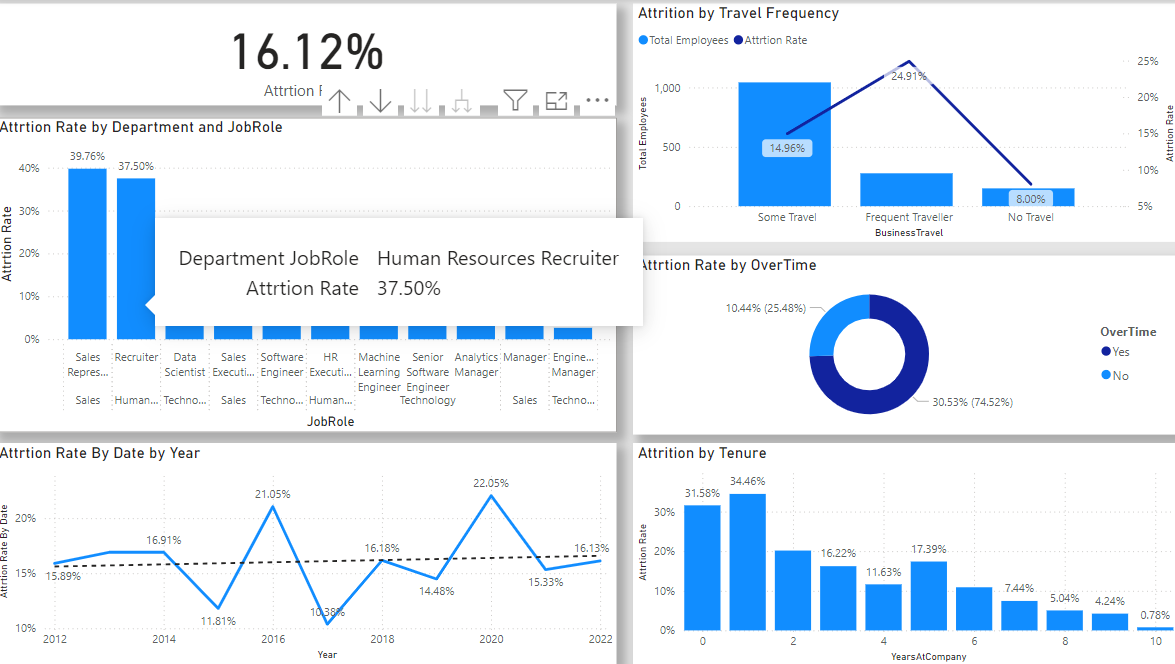

What the dashboard file says about the page in this screenshot:
{"tool":"powerbi","page":{"name":"Attrition","canvas":[1280,720],"ordinal":3},"visuals":[{"type":"card","fields":{"Values":["-Measures.Attrtion Rate"]},"box":[0,5,672,110],"z":0},{"type":"columnChart","fields":{"Category":["DimEmployee.Department","DimEmployee.JobRole"],"Y":["-Measures.Attrtion Rate"]},"box":[0,127.9,672,340],"z":1000},{"type":"lineChart","fields":{"Category":["DimDate.Year"],"Y":["-Measures.Attrtion Rate By Date"]},"box":[0,479.7,672.1,238.8],"z":2000},{"type":"donutChart","fields":{"Y":["-Measures.Attrtion Rate"],"Category":["DimEmployee.OverTime"]},"box":[690,276.1,588.4,193.5],"z":4000},{"type":"columnChart","title":"Attrition by Tenure","fields":{"Category":["DimEmployee.YearsAtCompany"],"Y":["-Measures.Attrtion Rate"]},"box":[690,479.7,588,241],"z":5000},{"type":"lineStackedColumnComboChart","title":"Attrition by Travel Frequency","fields":{"Category":["DimEmployee.BusinessTravel"],"Y2":["-Measures.Attrtion Rate"],"Y":["-Measures.Total Employees"]},"box":[690,5,589.4,257.5],"z":5001}]}

Visuals, with their boxes on the page's 1280x720 design canvas (x1, y1, x2, y2). These are canvas units, not pixel positions in the 1175x664 screenshot, which may show the page scaled, cropped or inside an application window:
card - -Measures.Attrtion Rate: (x1=0, y1=5, x2=672, y2=115)
columnChart - DimEmployee.Department x DimEmployee.JobRole: (x1=0, y1=128, x2=672, y2=468)
lineChart - DimDate.Year x -Measures.Attrtion Rate By Date: (x1=0, y1=480, x2=672, y2=718)
donutChart - -Measures.Attrtion Rate x DimEmployee.OverTime: (x1=690, y1=276, x2=1278, y2=470)
"Attrition by Tenure" columnChart: (x1=690, y1=480, x2=1278, y2=721)
"Attrition by Travel Frequency" lineStackedColumnComboChart: (x1=690, y1=5, x2=1279, y2=262)
